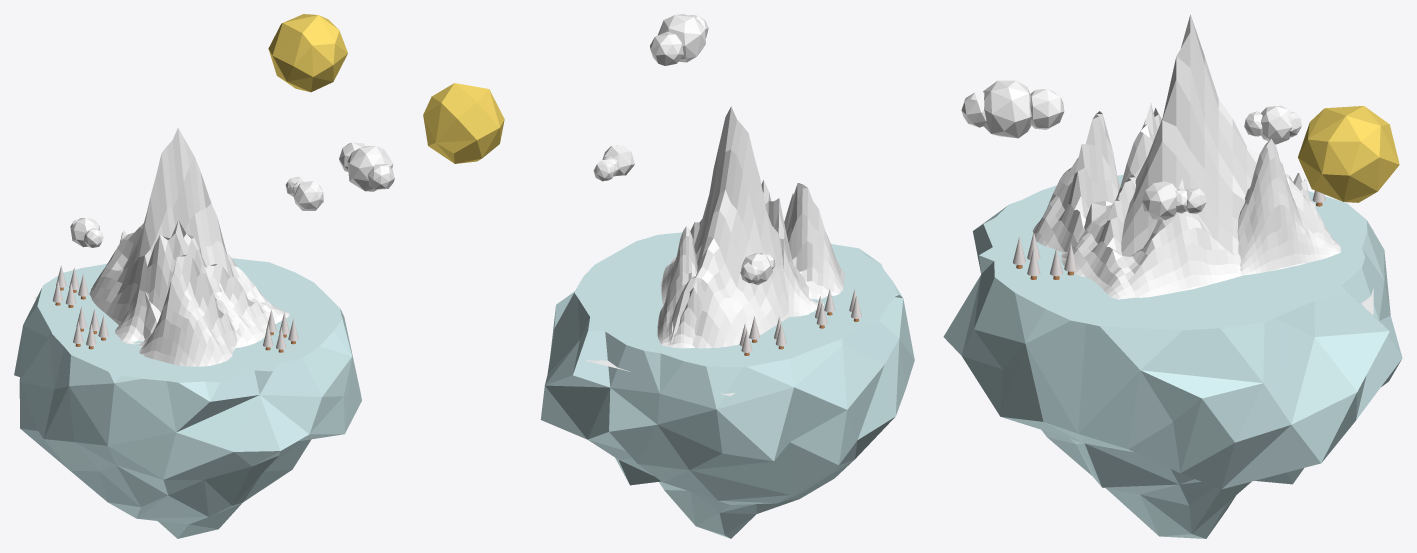
File: everest.glb
3 renders of one model, left to right at view 1: azimuth 30°, elevation 25°; view 2: azimuth 150°, elevation 25°; view 3: azimuth 270°, elevation 25°, orthographic. The views are drawn at different scales.
Visible parts, largest first — view 1: Sphere, Cube, Landscape_2, Landscape_4, moon_thingy, Landscape_3, moon_thingy_2, moon_thingy_10, moon_thingy_4, moon_thingy_7; view 2: Sphere, Cube, Landscape_4, Landscape_2, moon_thingy, Landscape_1, moon_thingy_2, moon_thingy_3; view 3: Sphere, Cube, Landscape_4, Landscape_3, Landscape_1, moon_thingy, Landscape_2, moon_thingy_2, moon_thingy_3, moon_thingy_10, moon_thingy_7, moon_thingy_4.
Part boxes in pixels (x1,y1,x2,y2): Sphere: (14,288,361,538); Cube: (37,258,342,382); Landscape_2: (115,220,237,366); Landscape_4: (34,127,244,338); moon_thingy: (268,14,347,92); Landscape_3: (206,249,289,347); moon_thingy_2: (347,146,393,191); moon_thingy_10: (294,181,323,210); moon_thingy_4: (367,164,394,189); moon_thingy_7: (70,218,99,247); Sphere: (540,248,914,538); Cube: (574,232,898,367); Landscape_4: (585,106,808,396); Landscape_2: (761,180,844,316); moon_thingy: (423,83,504,163); Landscape_1: (657,226,706,348); moon_thingy_2: (658,14,705,62); moon_thingy_3: (650,31,683,65); Sphere: (943,205,1402,538); Cube: (979,175,1367,330); Landscape_4: (1072,14,1373,314); Landscape_3: (1061,174,1242,299); Landscape_1: (1237,138,1340,275); moon_thingy: (1298,106,1399,202); Landscape_2: (1033,103,1161,252); moon_thingy_2: (983,80,1031,138); moon_thingy_3: (1030,89,1064,129); moon_thingy_10: (1142,181,1176,220); moon_thingy_7: (1261,105,1291,144); moon_thingy_4: (961,92,986,127).
Size of the model in its own units: 6.05 by 6.67 by 5.11.
